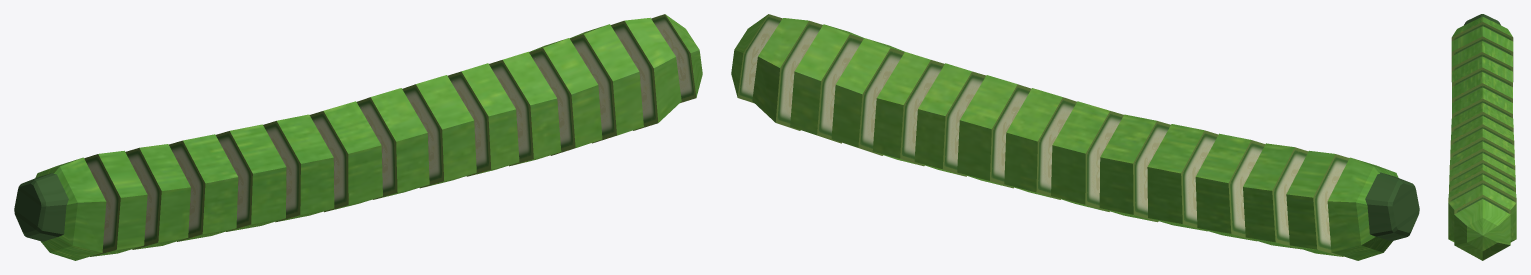
File: Cocumber.fbx
The picture shows the model from 3 angles, left to right: view 1: azimuth 30°, elevation 25°; view 2: azimuth 150°, elevation 25°; view 3: azimuth 270°, elevation 25°; orthographic projection. The views are drawn at different scales.
Visible parts, largest first — view 1: Zucchini_Slice01_M_FV01Pack_0, Zucchini_Slice09_M_FV01Pack_0, Zucchini_Slice07_M_FV01Pack_0, Zucchini_Slice05_M_FV01Pack_0, Zucchini_Slice08_M_FV01Pack_0, Zucchini_Slice06_M_FV01Pack_0, Zucchini_Slice04_M_FV01Pack_0, Zucchini_Slice13_M_FV01Pack_0, Zucchini_Slice12_M_FV01Pack_0, Zucchini_Slice10_M_FV01Pack_0, Zucchini_Slice11_M_FV01Pack_0, Zucchini_Slice03_M_FV01Pack_0 (+3 smaller); view 2: Zucchini_Slice01_M_FV01Pack_0, Zucchini_Slice09_M_FV01Pack_0, Zucchini_Slice07_M_FV01Pack_0, Zucchini_Slice05_M_FV01Pack_0, Zucchini_Slice08_M_FV01Pack_0, Zucchini_Slice06_M_FV01Pack_0, Zucchini_Slice04_M_FV01Pack_0, Zucchini_Slice13_M_FV01Pack_0, Zucchini_Slice12_M_FV01Pack_0, Zucchini_Slice10_M_FV01Pack_0, Zucchini_Slice11_M_FV01Pack_0, Zucchini_Slice03_M_FV01Pack_0 (+3 smaller); view 3: Zucchini_Slice15_M_FV01Pack_0, Zucchini_Slice14_M_FV01Pack_0, Zucchini_Slice02_M_FV01Pack_0, Zucchini_Slice05_M_FV01Pack_0, Zucchini_Slice04_M_FV01Pack_0, Zucchini_Slice06_M_FV01Pack_0, Zucchini_Slice03_M_FV01Pack_0, Zucchini_Slice07_M_FV01Pack_0, Zucchini_Slice09_M_FV01Pack_0, Zucchini_Slice08_M_FV01Pack_0, Zucchini_Slice10_M_FV01Pack_0, Zucchini_Slice11_M_FV01Pack_0 (+3 smaller).
Boxes of the visible parts, x1,y1,x2,y2 form: Zucchini_Slice01_M_FV01Pack_0: (14, 157, 106, 260); Zucchini_Slice09_M_FV01Pack_0: (402, 75, 476, 188); Zucchini_Slice07_M_FV01Pack_0: (309, 101, 382, 212); Zucchini_Slice05_M_FV01Pack_0: (216, 124, 286, 231); Zucchini_Slice08_M_FV01Pack_0: (356, 88, 429, 199); Zucchini_Slice06_M_FV01Pack_0: (263, 114, 334, 222); Zucchini_Slice04_M_FV01Pack_0: (169, 134, 238, 241); Zucchini_Slice13_M_FV01Pack_0: (569, 24, 643, 143); Zucchini_Slice12_M_FV01Pack_0: (529, 38, 602, 155); Zucchini_Slice10_M_FV01Pack_0: (447, 63, 519, 176); Zucchini_Slice11_M_FV01Pack_0: (489, 51, 561, 166); Zucchini_Slice03_M_FV01Pack_0: (125, 144, 190, 249); Zucchini_Slice01_M_FV01Pack_0: (1327, 157, 1419, 260); Zucchini_Slice09_M_FV01Pack_0: (957, 75, 1031, 188); Zucchini_Slice07_M_FV01Pack_0: (1051, 101, 1123, 211); Zucchini_Slice05_M_FV01Pack_0: (1147, 124, 1218, 231); Zucchini_Slice08_M_FV01Pack_0: (1004, 88, 1076, 199); Zucchini_Slice06_M_FV01Pack_0: (1099, 114, 1170, 222); Zucchini_Slice04_M_FV01Pack_0: (1195, 133, 1265, 241); Zucchini_Slice13_M_FV01Pack_0: (790, 24, 863, 143); Zucchini_Slice12_M_FV01Pack_0: (831, 38, 904, 155); Zucchini_Slice10_M_FV01Pack_0: (914, 63, 985, 176); Zucchini_Slice11_M_FV01Pack_0: (872, 52, 944, 166); Zucchini_Slice03_M_FV01Pack_0: (1243, 143, 1308, 249); Zucchini_Slice15_M_FV01Pack_0: (1454, 199, 1510, 260); Zucchini_Slice14_M_FV01Pack_0: (1448, 184, 1516, 242); Zucchini_Slice02_M_FV01Pack_0: (1451, 26, 1513, 81); Zucchini_Slice05_M_FV01Pack_0: (1452, 72, 1512, 102); Zucchini_Slice04_M_FV01Pack_0: (1452, 56, 1512, 86); Zucchini_Slice06_M_FV01Pack_0: (1452, 87, 1512, 118); Zucchini_Slice03_M_FV01Pack_0: (1452, 41, 1512, 71); Zucchini_Slice07_M_FV01Pack_0: (1451, 103, 1513, 132); Zucchini_Slice09_M_FV01Pack_0: (1450, 128, 1514, 157); Zucchini_Slice08_M_FV01Pack_0: (1450, 116, 1514, 145); Zucchini_Slice10_M_FV01Pack_0: (1449, 141, 1515, 169); Zucchini_Slice11_M_FV01Pack_0: (1449, 153, 1515, 181).
Size of the model in its own units: 167 by 28.18 by 23.4.
